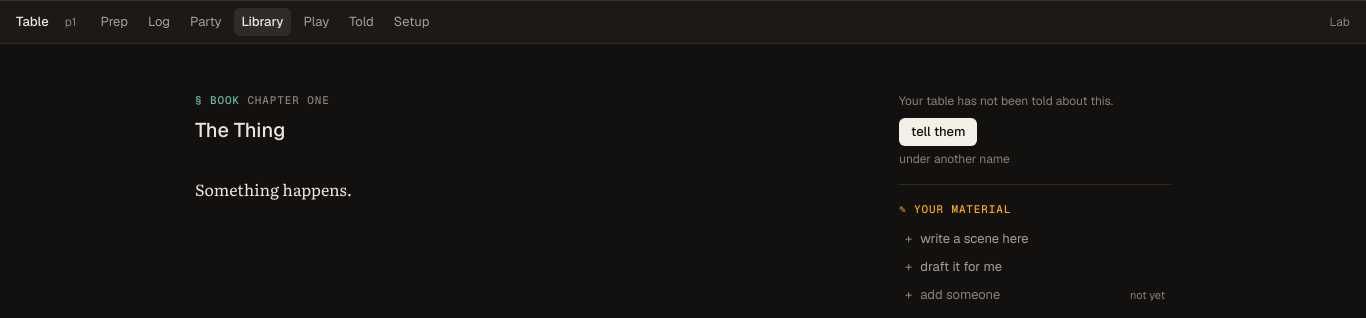
it: toggling draft off and on again mid-flight › asks again instead of stranding the DM with nothing at all
What coordinates should you click on to do the following:
click the button "+ draft it for me"
I would click on:
 (961, 266)
Its box is [899,253,1171,281].
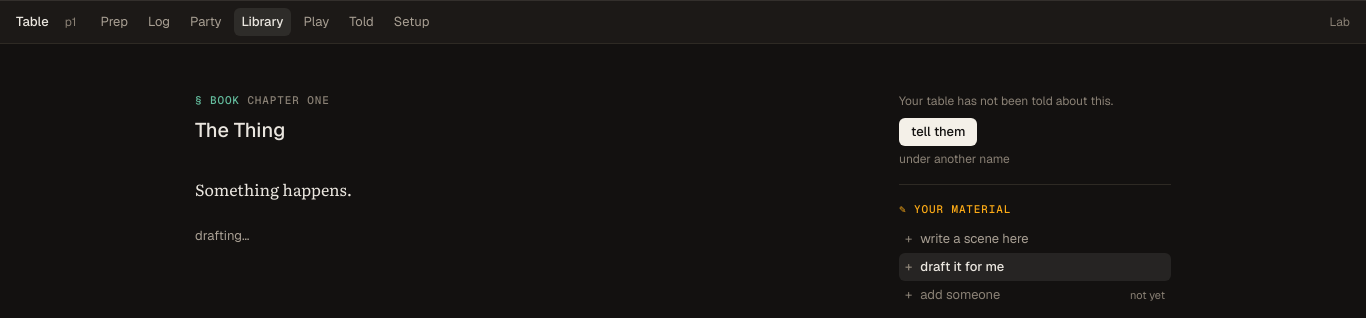
expect the text "drafting…" is shown: met, box [195,227,250,244]
Note: Off -- the DM changes their mind while the first request is still out.
What coordinates should you click on to do the following:
click the button "+ draft it for me"
I would click on:
 (962, 266)
Its box is [899,253,1171,281].
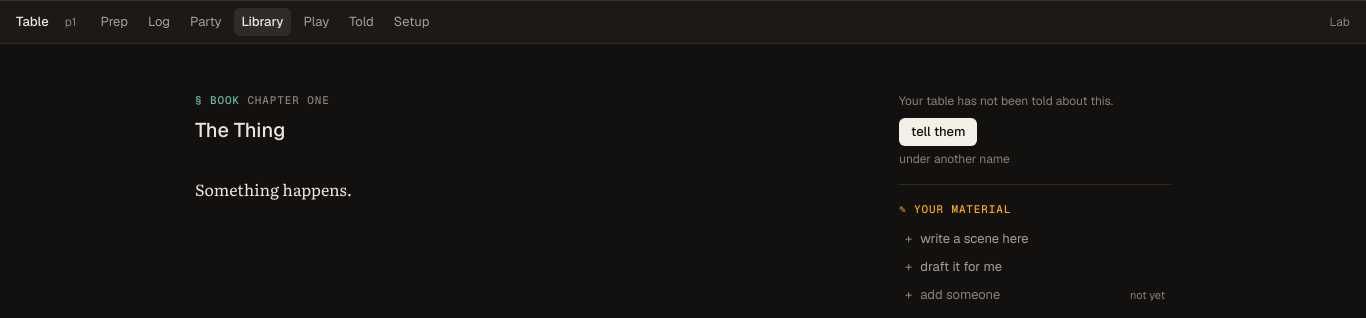
expect the text "drafting…" is gone: met
Note: And on again. A request must go out, and the spinner must come back.
What coordinates should you click on to do the following:
click the button "+ draft it for me"
I would click on:
 (961, 266)
Its box is [899,253,1171,281].
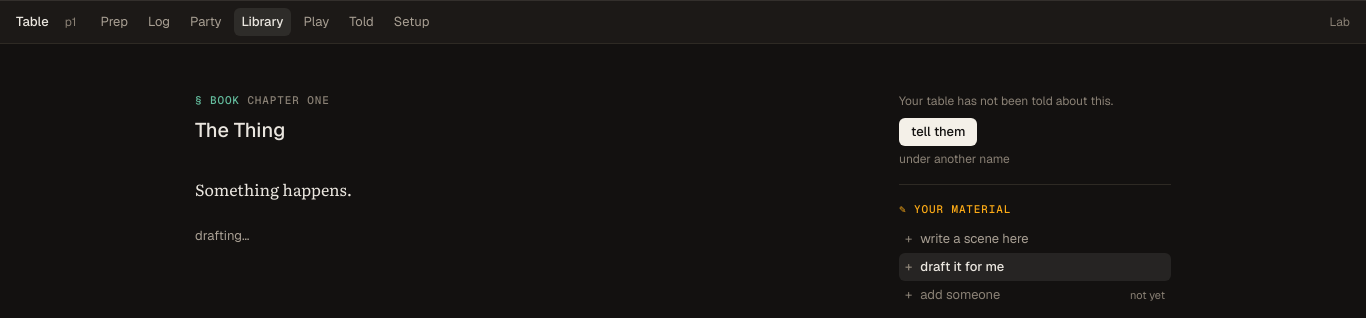
expect the text "drafting…" is shown: met, box [195,227,250,244]
